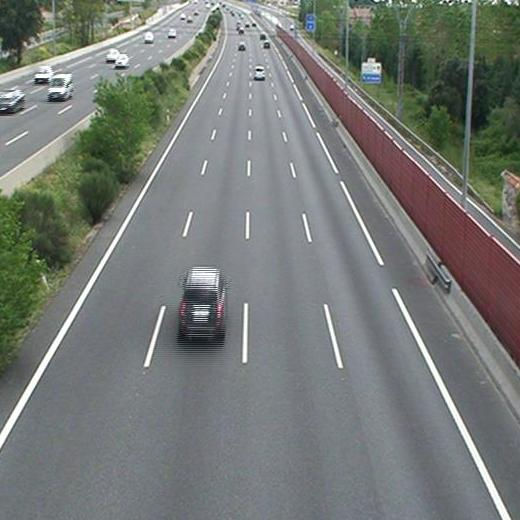car: (179, 268, 222, 333), (254, 66, 265, 79), (263, 40, 271, 50), (237, 43, 246, 51)
